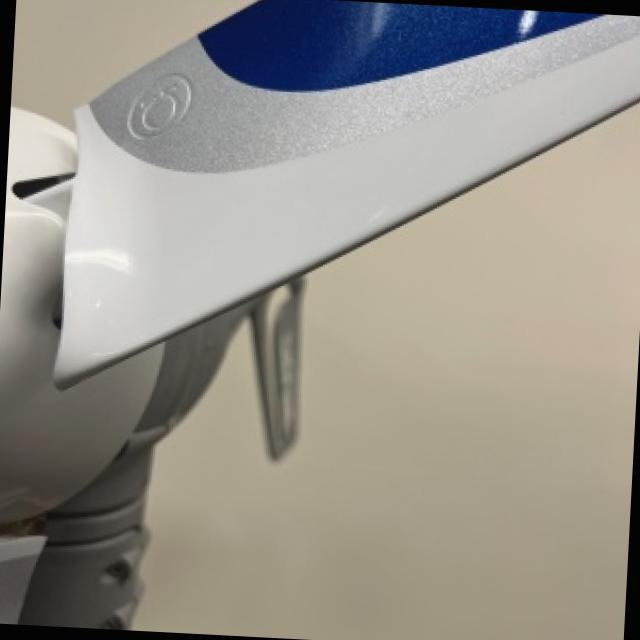healthy: (131, 101, 640, 640)
